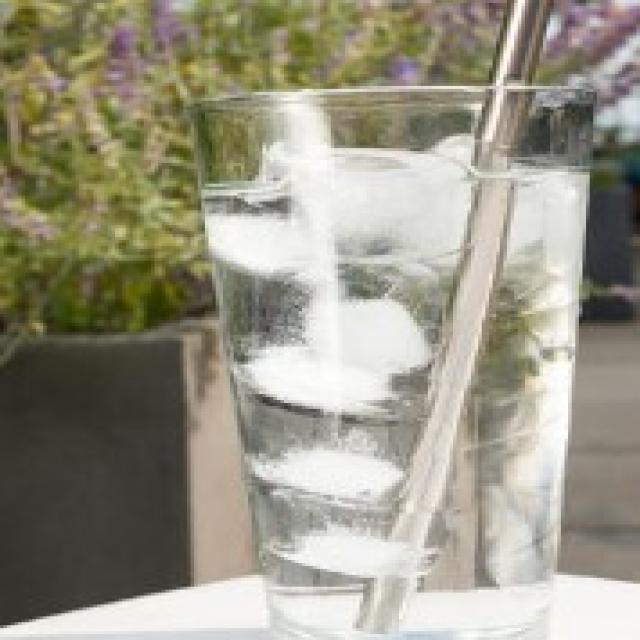electronic: (188, 88, 600, 640)
